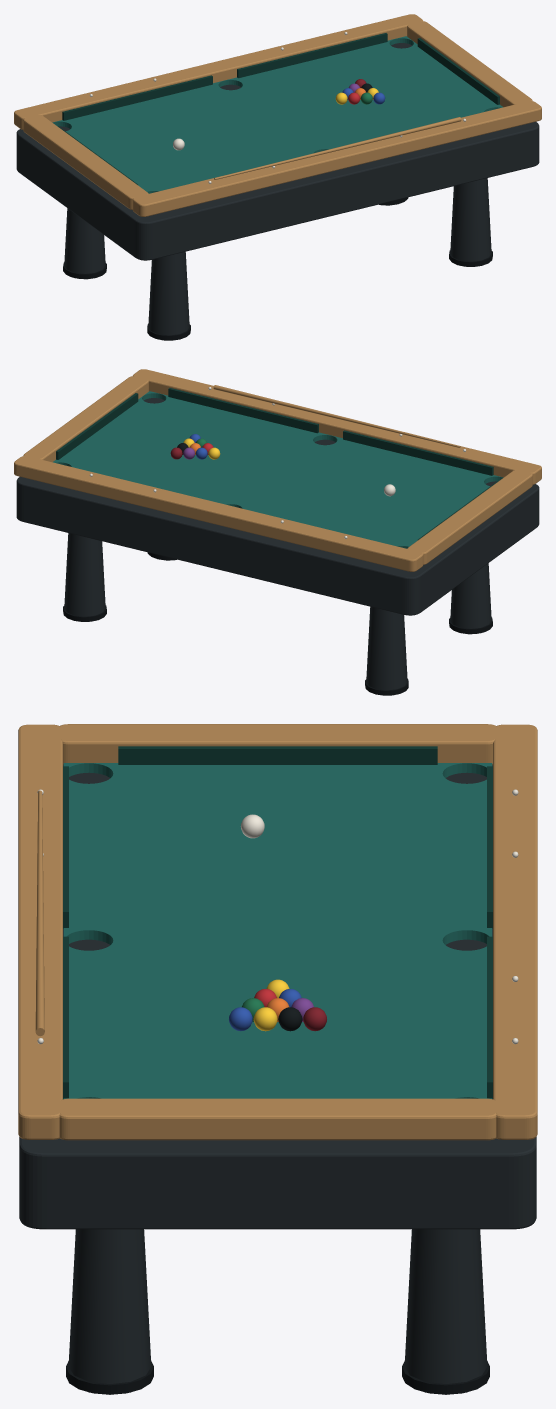
The model's file is pool-table.glb.
3 views of the same model, one above another, from view 1: azimuth 30°, elevation 25°; view 2: azimuth 150°, elevation 25°; view 3: azimuth 270°, elevation 25° (orthographic). The views are drawn at different scales.
Visible parts, largest first — view 1: PocketedPlayingSurface, Cabinet, OakSideRail (×2), TaperedLeg (×3), OakEndRail (×2), SideCushion (×2), CueStick, EndCushion; view 2: PocketedPlayingSurface, Cabinet, OakSideRail (×2), TaperedLeg (×3), OakEndRail (×2), SideCushion (×2), CueStick, EndCushion; view 3: PocketedPlayingSurface, Cabinet, OakSideRail (×2), OakEndRail (×2), TaperedLeg (×2), EndCushion, SideCushion (×4), LevelingFoot (×2), CueStick.
Part boxes in pixels (x1=…): PocketedPlayingSurface: x1=52, y1=36, x2=502, y2=193; Cabinet: x1=16, y1=43, x2=539, y2=260; OakSideRail (×2): x1=14, y1=14, x2=541, y2=216; TaperedLeg (×3): x1=64, y1=178, x2=491, y2=335; OakEndRail (×2): x1=23, y1=21, x2=532, y2=209; SideCushion (×2): x1=62, y1=33, x2=387, y2=120; CueStick: x1=214, y1=117, x2=461, y2=179; EndCushion: x1=417, y1=38, x2=499, y2=104; PocketedPlayingSurface: x1=53, y1=391, x2=503, y2=548; Cabinet: x1=16, y1=398, x2=539, y2=615; OakSideRail (×2): x1=14, y1=369, x2=541, y2=571; TaperedLeg (×3): x1=64, y1=533, x2=491, y2=690; OakEndRail (×2): x1=23, y1=376, x2=532, y2=564; SideCushion (×2): x1=168, y1=388, x2=493, y2=475; CueStick: x1=213, y1=385, x2=460, y2=447; EndCushion: x1=56, y1=393, x2=138, y2=459; PocketedPlayingSurface: x1=63, y1=763, x2=492, y2=1098; Cabinet: x1=19, y1=765, x2=536, y2=1229; OakSideRail (×2): x1=18, y1=724, x2=537, y2=1139; OakEndRail (×2): x1=59, y1=724, x2=496, y2=1140; TaperedLeg (×2): x1=68, y1=1229, x2=487, y2=1394; EndCushion: x1=118, y1=746, x2=437, y2=764; SideCushion (×4): x1=63, y1=766, x2=492, y2=1099; LevelingFoot (×2): x1=66, y1=1360, x2=489, y2=1394; CueStick: x1=35, y1=790, x2=44, y2=1036.
Bounding box in the file's own units: 2.22 × 0.845 × 1.24.
